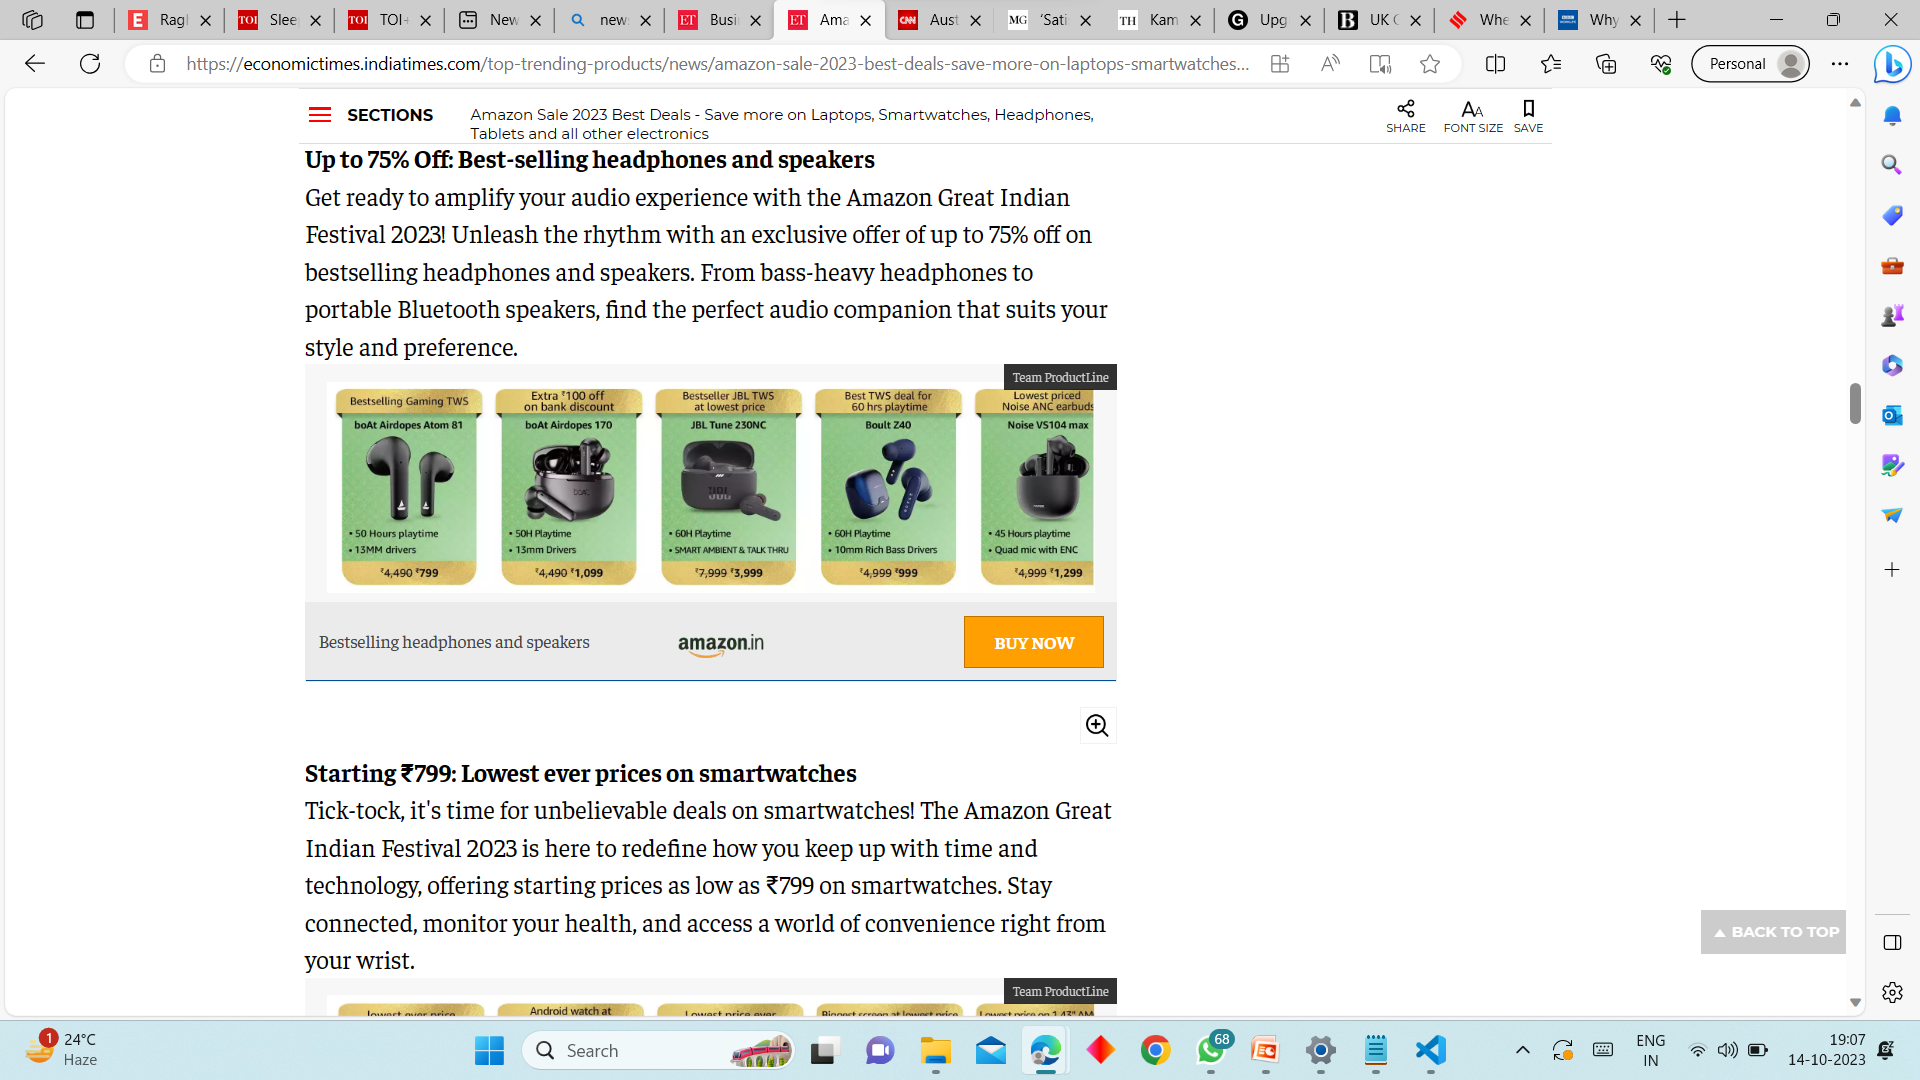Image: (311, 386, 1129, 731), (293, 87, 338, 144)
Paragraph: (293, 174, 1151, 369), (293, 803, 1145, 977), (305, 736, 903, 790), (459, 100, 1102, 144), (293, 138, 878, 165), (340, 94, 447, 135)
